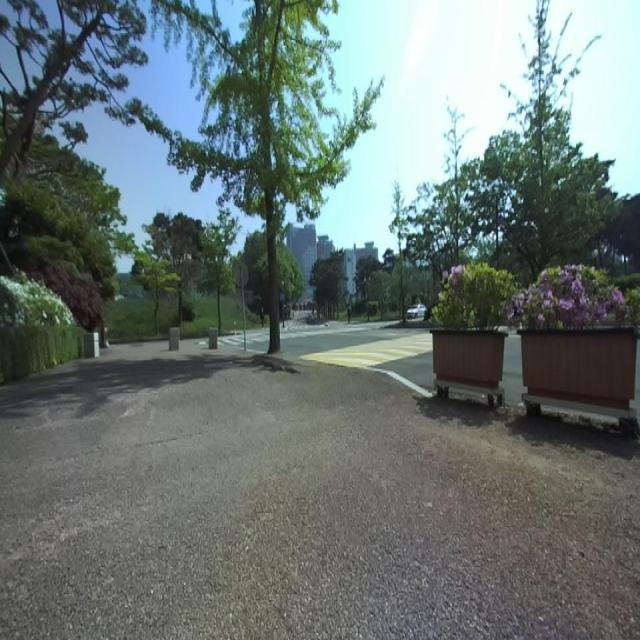sidewalk: (0, 343, 640, 638), (330, 365, 433, 396)
